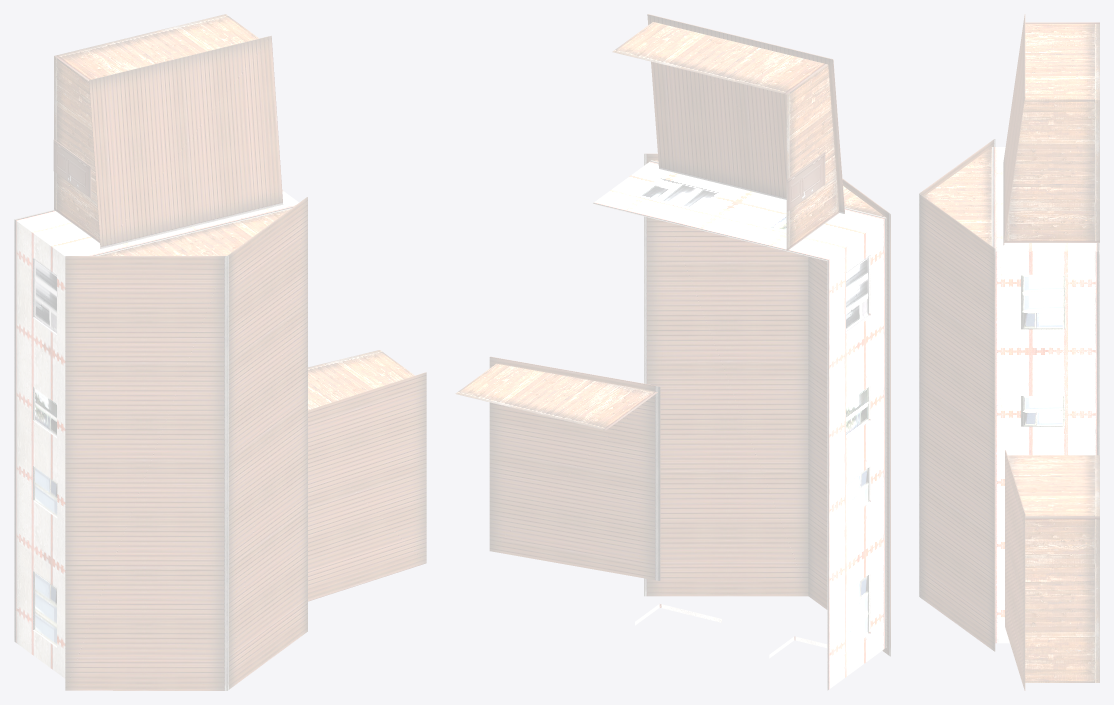
Rendered from cottage.gltf.
The picture shows the model from 3 angles, left to right: view 1: azimuth 30°, elevation 25°; view 2: azimuth 150°, elevation 25°; view 3: azimuth 270°, elevation 25°; orthographic projection. The views are drawn at different scales.
Visible parts, largest first — view 1: Box001; view 2: Box001; view 3: Box001.
Part boxes in pixels (x1,y1,x2,y2): Box001: (14,14,426,690); Box001: (455,14,890,690); Box001: (919,14,1099,690).
Size of the model in its own units: 12.1 by 18.03 by 5.41.
